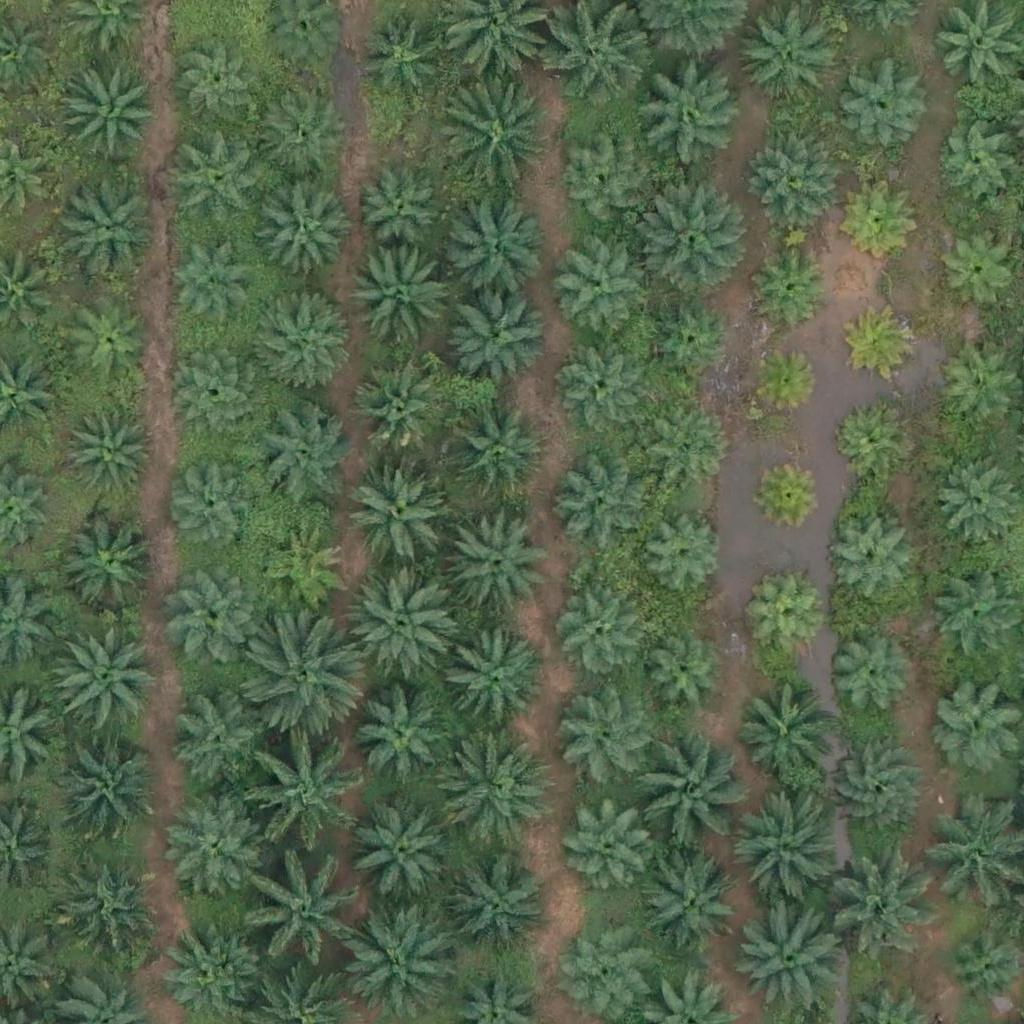Kelapa_Sawit: (727, 899, 840, 1013), (436, 629, 549, 742), (437, 738, 550, 851), (347, 795, 460, 908), (634, 57, 747, 170), (635, 180, 748, 293), (434, 84, 547, 197), (246, 621, 359, 734), (730, 795, 842, 909), (824, 840, 936, 953), (628, 734, 740, 847), (348, 573, 460, 686), (41, 620, 153, 733), (248, 746, 360, 859), (248, 864, 360, 977), (921, 807, 1021, 908), (734, 683, 834, 784), (637, 851, 737, 952), (558, 688, 658, 789), (447, 508, 547, 609), (354, 688, 454, 789), (171, 798, 271, 899), (158, 917, 258, 1018), (54, 862, 154, 963), (736, 1, 836, 102), (443, 200, 543, 301), (448, 283, 548, 384), (348, 456, 448, 557), (447, 400, 547, 501), (554, 452, 654, 553), (350, 248, 450, 349), (254, 285, 354, 386), (59, 176, 159, 277), (826, 741, 926, 841), (175, 691, 275, 791), (59, 515, 159, 615), (56, 744, 156, 844), (255, 403, 355, 503), (171, 131, 271, 231), (60, 59, 160, 159), (448, 856, 547, 957), (163, 459, 251, 548), (823, 515, 911, 603), (549, 587, 637, 675), (645, 295, 733, 383), (645, 413, 733, 501), (353, 9, 441, 97), (931, 223, 1019, 311), (555, 251, 643, 339), (556, 343, 644, 431), (358, 159, 446, 247), (174, 41, 262, 129), (166, 244, 254, 332), (170, 348, 258, 436), (72, 411, 160, 499), (928, 572, 1015, 661), (825, 631, 912, 719), (641, 511, 728, 599), (638, 635, 725, 723), (561, 918, 648, 1006), (564, 803, 651, 891), (170, 564, 257, 652), (934, 121, 1021, 209), (935, 455, 1022, 543), (749, 131, 836, 219), (836, 62, 923, 150), (561, 140, 648, 228), (353, 365, 440, 453), (259, 88, 346, 176), (262, 189, 349, 277), (66, 298, 153, 386), (261, 525, 348, 613), (830, 401, 905, 477), (747, 581, 822, 657), (752, 454, 827, 530), (845, 305, 920, 381), (755, 247, 830, 322), (747, 344, 822, 419), (845, 183, 920, 258)
